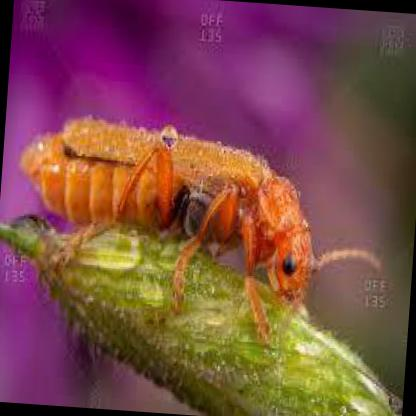blister beetle: (21, 117, 375, 309)
